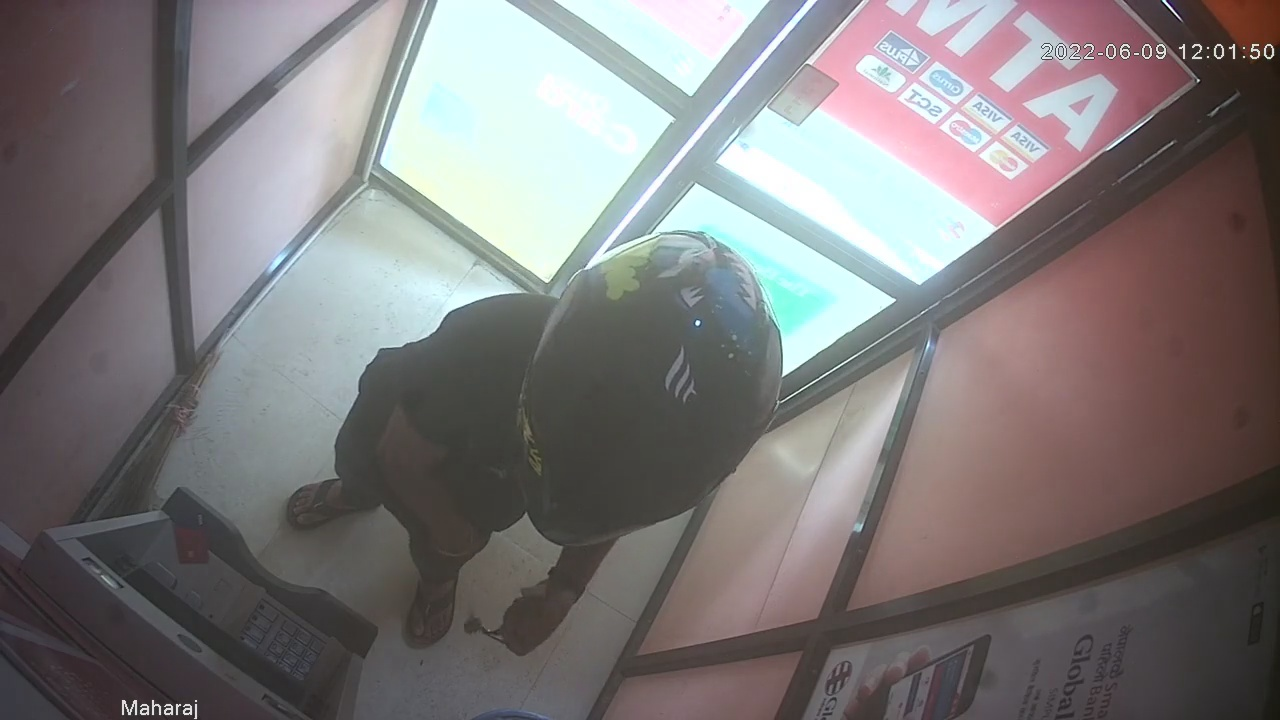helmet: (512, 229, 784, 547)
person: (285, 228, 784, 660)
